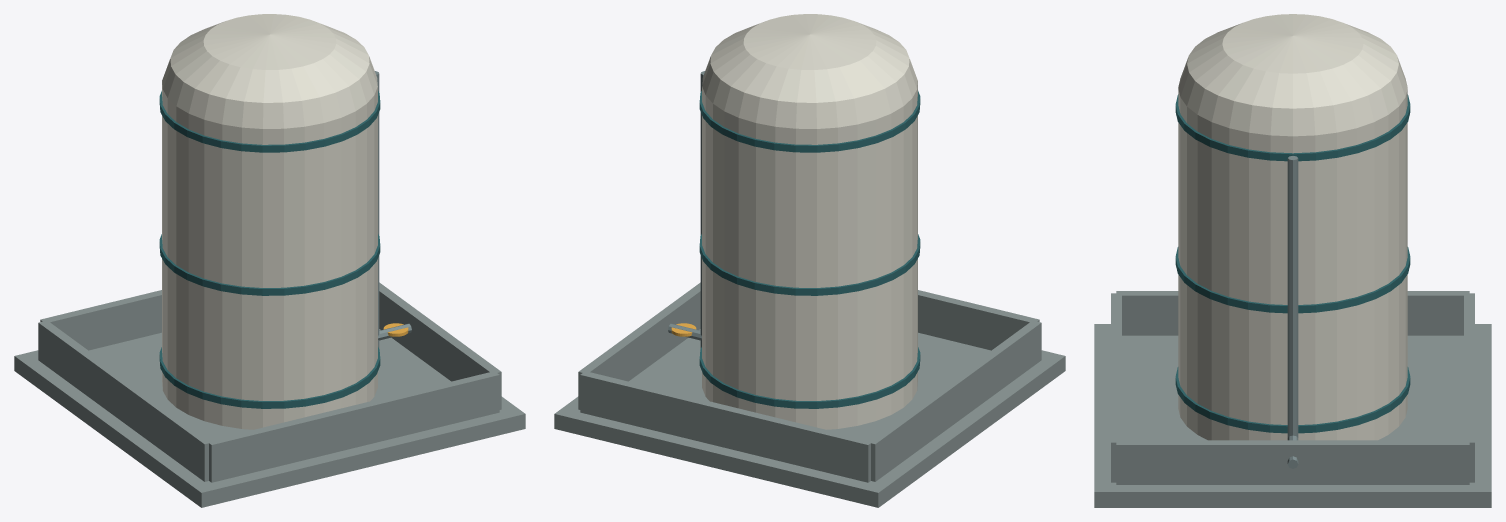
File: utility_tank.glb
3 renders of one model, left to right at view 1: azimuth 30°, elevation 25°; view 2: azimuth 150°, elevation 25°; view 3: azimuth 270°, elevation 25°, orthographic. The views are drawn at different scales.
Parts seen in each view (by area): view 1: utility_tank; view 2: utility_tank; view 3: utility_tank.
Boxes of the visible parts, x1=… form: utility_tank: x1=14, y1=14, x2=525, y2=507; utility_tank: x1=554, y1=14, x2=1065, y2=507; utility_tank: x1=1094, y1=14, x2=1491, y2=507.
Bounding box in the file's own units: 9 × 9.7 × 9.
